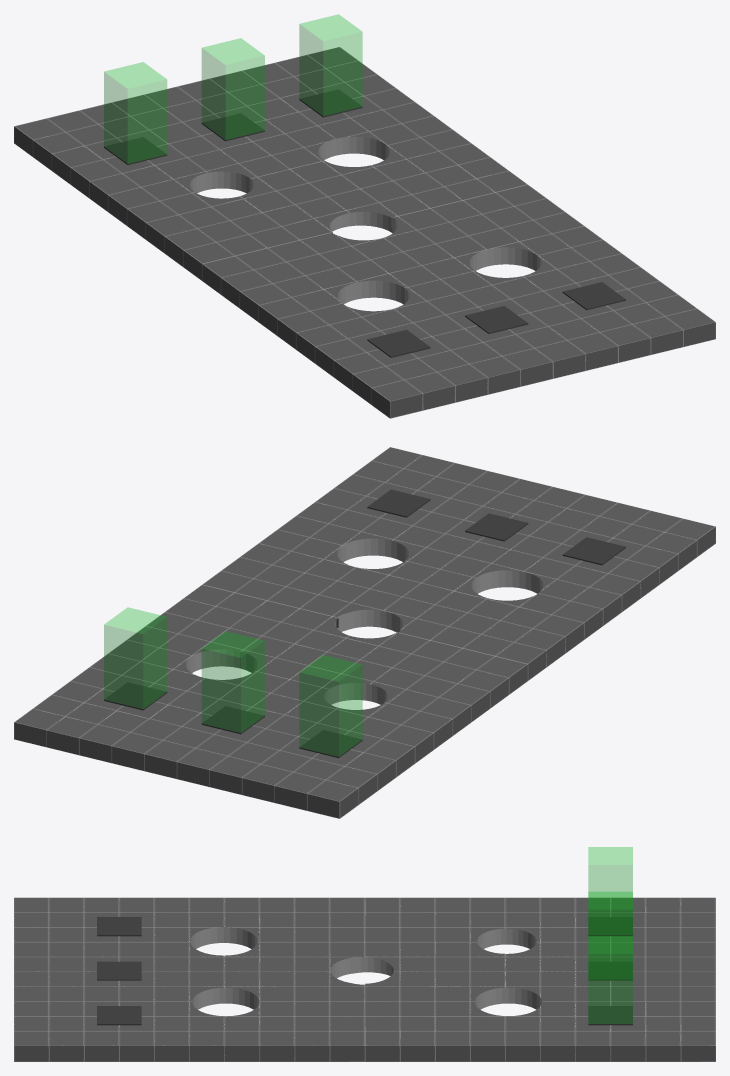
Rendered from level9.glb.
3 renders of one model, top to bottom at view 1: azimuth 30°, elevation 25°; view 2: azimuth 150°, elevation 25°; view 3: azimuth 270°, elevation 25°, orthographic. The views are drawn at different scales.
Visible parts, largest first — view 1: Level1-col; view 2: Level1-col; view 3: Level1-col.
Boxes of the visible parts, x1,y1,x2,y2 form: Level1-col: (14, 14, 715, 418); Level1-col: (14, 447, 715, 818); Level1-col: (14, 847, 715, 1061).
Bounding box in the file's own units: 20 × 5.47 × 40.
6 materials, 2 textured.
